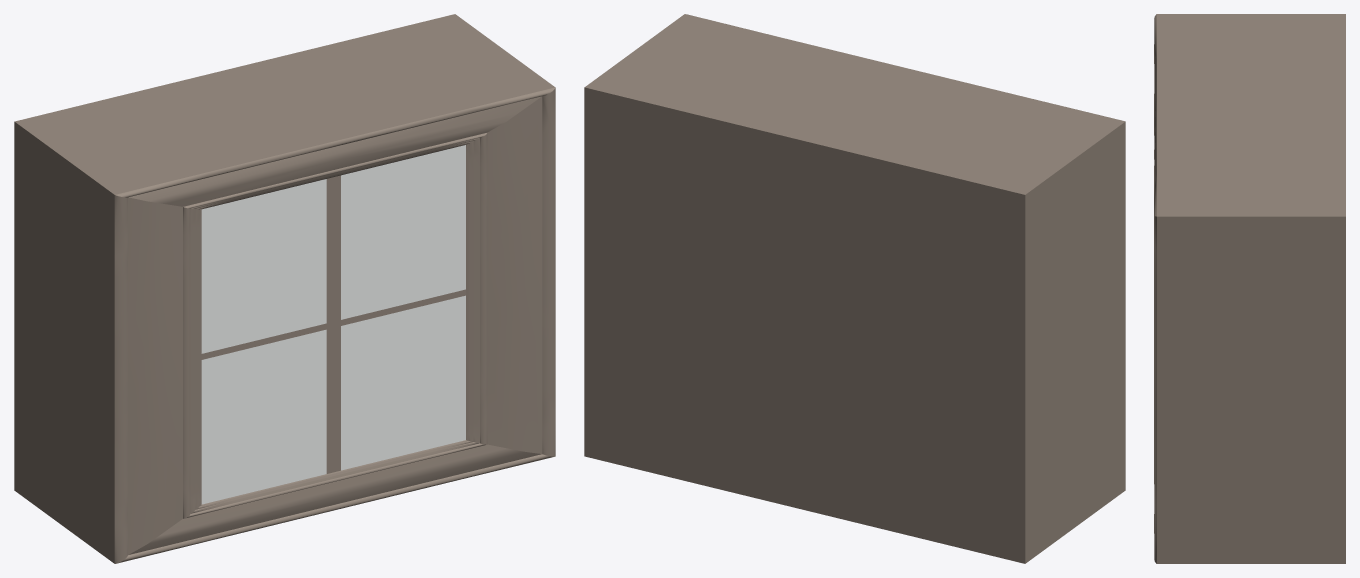
Rendered from Wall-Cabinet-with-Doors-Prepped-for-Glass_std_001_H24in_onlyH.glb.
3 renders of one model, left to right at view 1: azimuth 30°, elevation 25°; view 2: azimuth 150°, elevation 25°; view 3: azimuth 270°, elevation 25°, orthographic. The views are drawn at different scales.
Visible parts, largest first — view 1: Wall-Cabinet-with-Doors-Prepped-for-Glass.std.001_H24in_only; view 2: Wall-Cabinet-with-Doors-Prepped-for-Glass.std.001_H24in_only; view 3: Wall-Cabinet-with-Doors-Prepped-for-Glass.std.001_H24in_only.
Boxes of the visible parts, box(x1,y1,x2,y2) form: Wall-Cabinet-with-Doors-Prepped-for-Glass.std.001_H24in_only: box(14, 14, 555, 563); Wall-Cabinet-with-Doors-Prepped-for-Glass.std.001_H24in_only: box(584, 14, 1125, 563); Wall-Cabinet-with-Doors-Prepped-for-Glass.std.001_H24in_only: box(1154, 14, 1345, 563).
Size of the model in its own units: 0.762 by 0.6096 by 0.3048.
